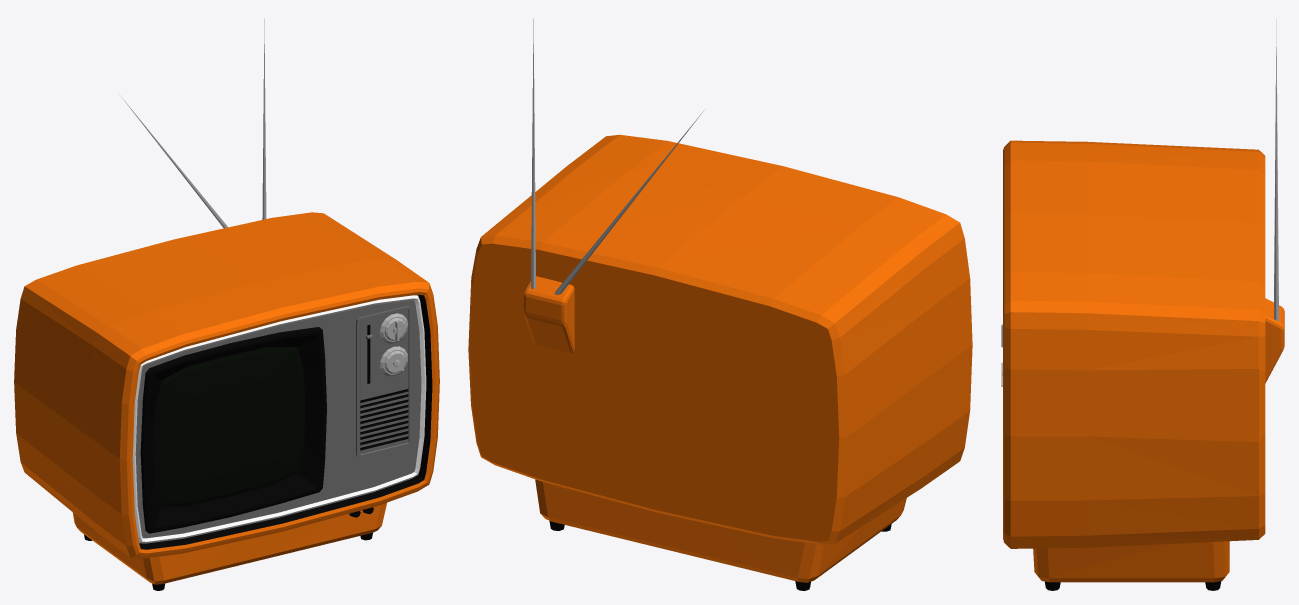
Rendered from Retro_TV.fbx.
The picture shows the model from 3 angles, left to right: view 1: azimuth 30°, elevation 25°; view 2: azimuth 150°, elevation 25°; view 3: azimuth 270°, elevation 25°; orthographic projection. The views are drawn at different scales.
Parts seen in each view (by area): view 1: Retro_TV; view 2: Retro_TV; view 3: Retro_TV.
Boxes of the visible parts, x1,y1,x2,y2 form: Retro_TV: [14, 18, 439, 590]; Retro_TV: [468, 19, 972, 590]; Retro_TV: [1001, 19, 1284, 590].
Bounding box in the file's own units: 110 × 150 × 71.95.
